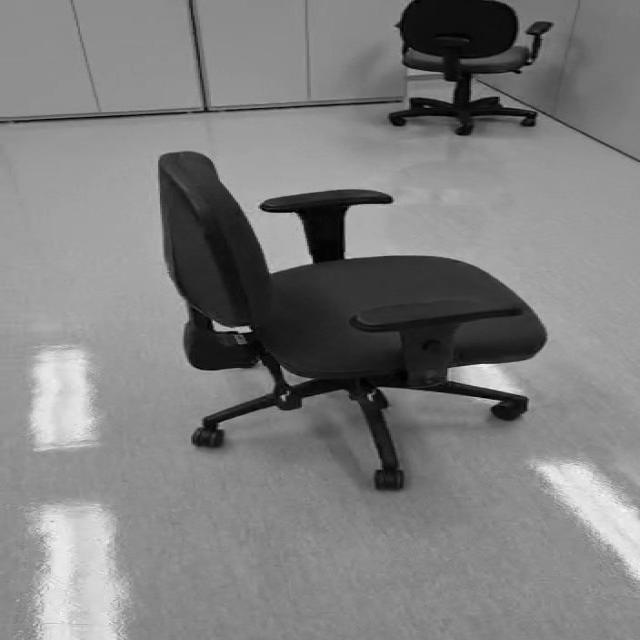cadeira-azul: (158, 152, 546, 491)
